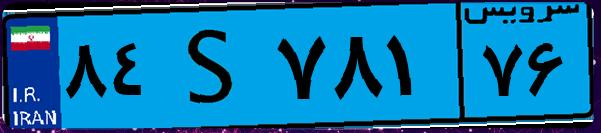1: (385, 28, 445, 110)
4: (110, 28, 158, 98)
6: (525, 38, 570, 115)
7: (270, 28, 330, 110), (475, 38, 525, 113)
8: (330, 28, 385, 110), (57, 26, 110, 100)
S: (158, 12, 270, 120)
